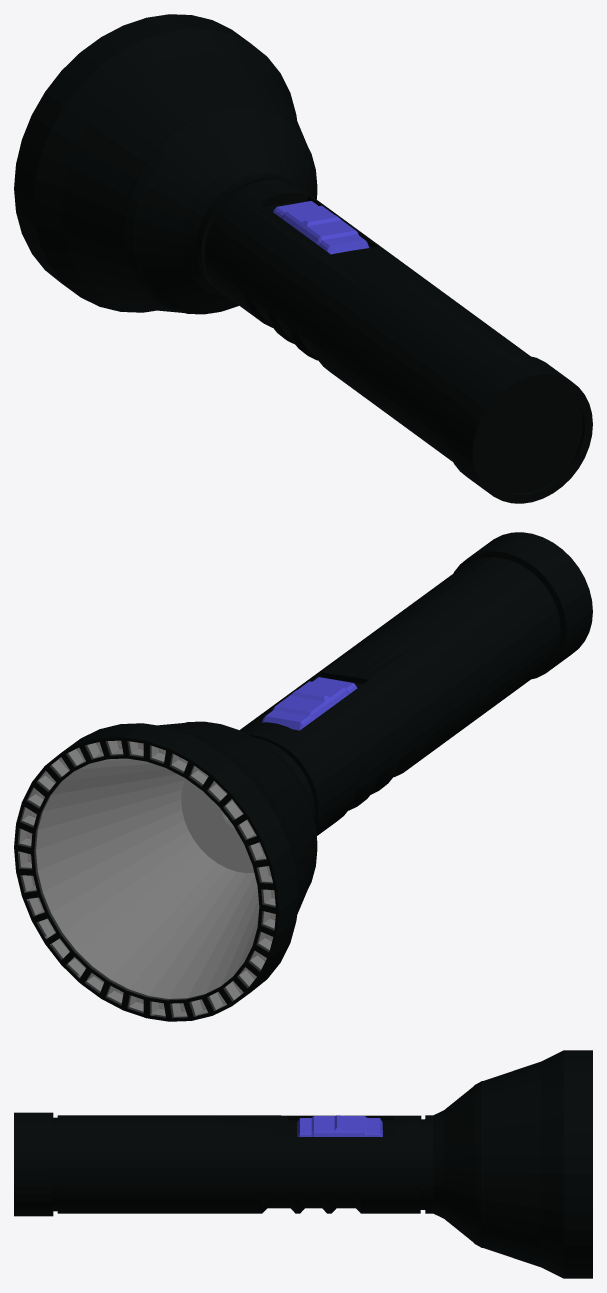
The model's file is Flashlight.obj.
3 views of the same model, one above another, from view 1: azimuth 30°, elevation 25°; view 2: azimuth 150°, elevation 25°; view 3: azimuth 270°, elevation 25° (orthographic). The views are drawn at different scales.
Parts seen in each view (by area): view 1: Cylinder, Cube; view 2: Cylinder, glass, Cube; view 3: Cylinder, Cube.
Boxes of the visible parts, box(x1,y1,x2,y2) form: Cylinder: box(14, 14, 592, 503); Cube: box(273, 201, 369, 254); Cylinder: box(14, 532, 592, 1021); glass: box(18, 740, 275, 1017); Cube: box(261, 677, 357, 730); Cylinder: box(14, 1050, 592, 1278); Cube: box(297, 1115, 382, 1136).
Size of the model in its own units: 306 by 306 by 773.
